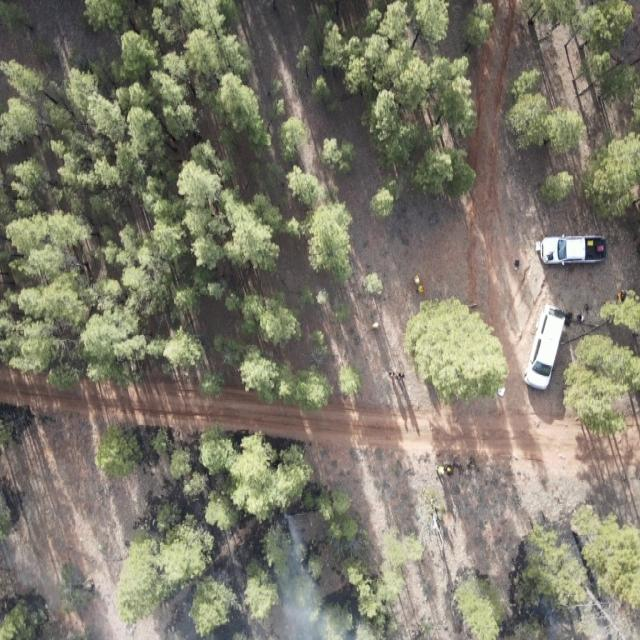smoke: (272, 514, 386, 640), (168, 595, 272, 640), (540, 600, 610, 640)
